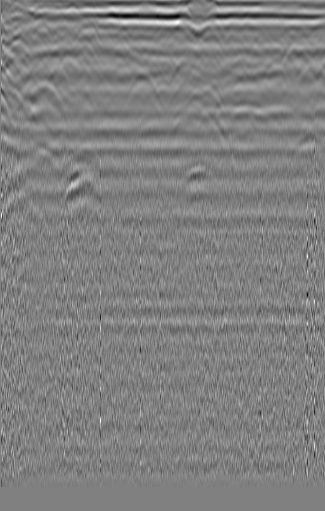상수: (278, 42, 314, 76)
오수: (4, 28, 37, 58)
우수: (120, 69, 165, 108)
